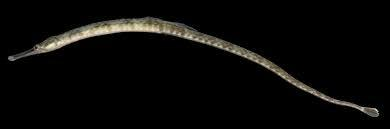Long-Snouted Pipefish: (0, 18, 388, 119)
